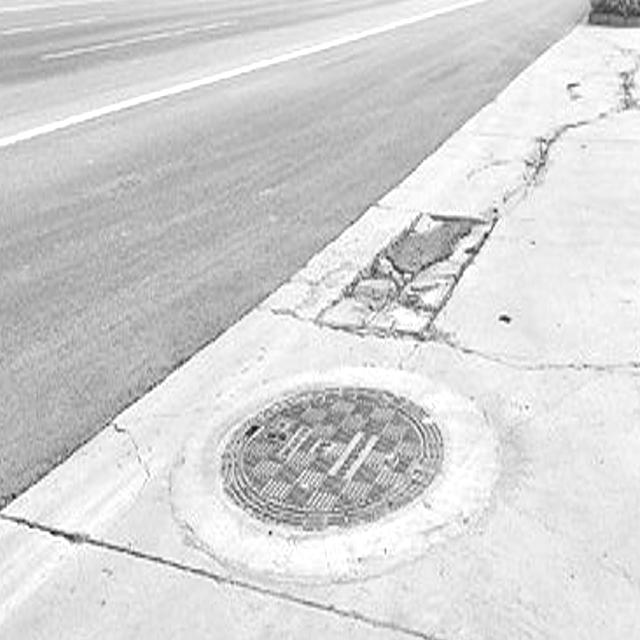good: (159, 358, 497, 583)
